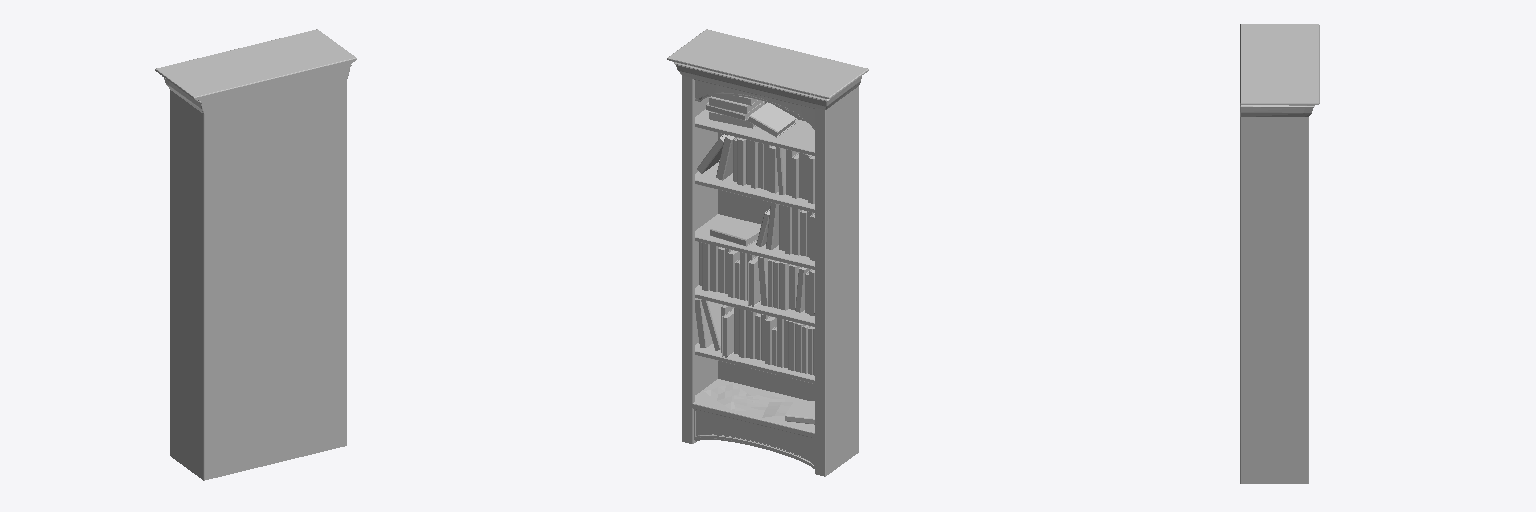
Rendered from Small_Bookshelf.obj.
The picture shows the model from 3 angles: view 1: azimuth 30°, elevation 25°; view 2: azimuth 150°, elevation 25°; view 3: azimuth 270°, elevation 25°; orthographic projection.
Visible parts, largest first — view 1: Old_Dusty_Bookshelf; view 2: Old_Dusty_Bookshelf; view 3: Old_Dusty_Bookshelf.
Part boxes in pixels (x1,y1,x2,y2): Old_Dusty_Bookshelf: (155, 29, 356, 480); Old_Dusty_Bookshelf: (667, 29, 868, 476); Old_Dusty_Bookshelf: (1240, 24, 1319, 483).
Size of the model in its own units: 0.9199 by 2.08 by 0.3865.